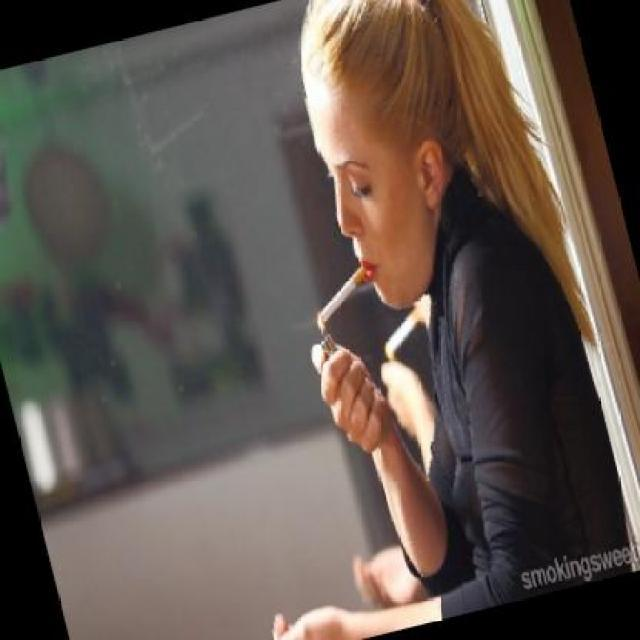smoke: (307, 259, 378, 327), (376, 306, 430, 359)
